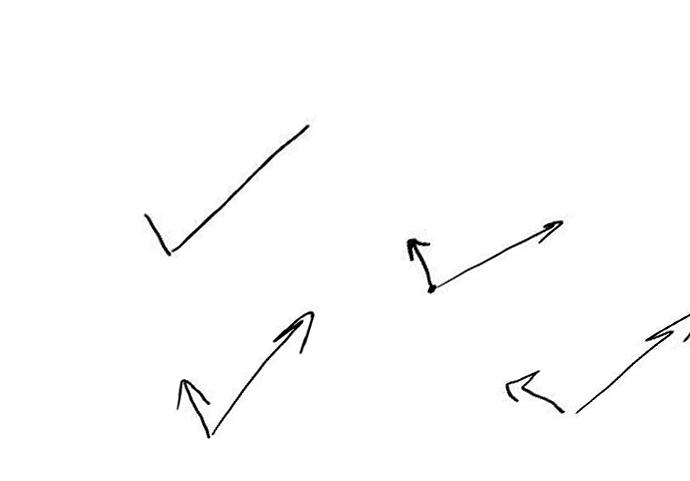arrow: (213, 309, 314, 434), (575, 314, 688, 411), (440, 220, 564, 284), (505, 369, 566, 415), (174, 379, 212, 438), (406, 238, 436, 287)
arrownohead: (171, 122, 309, 251), (144, 213, 168, 257)
